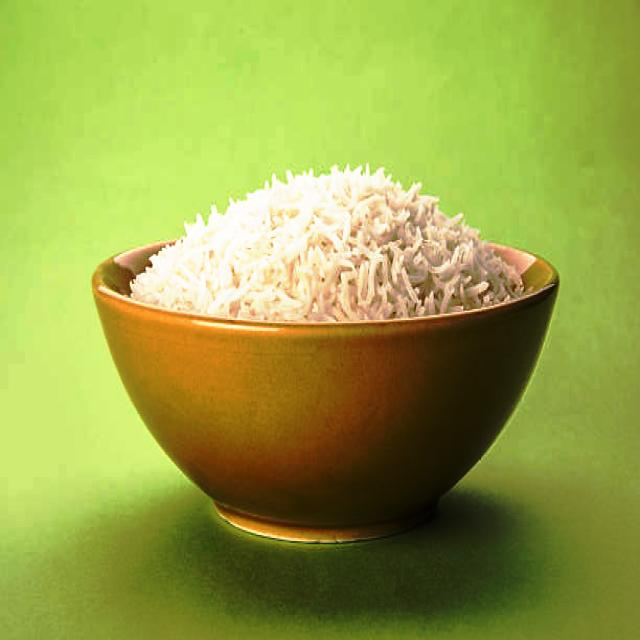rice: (125, 166, 528, 323)
